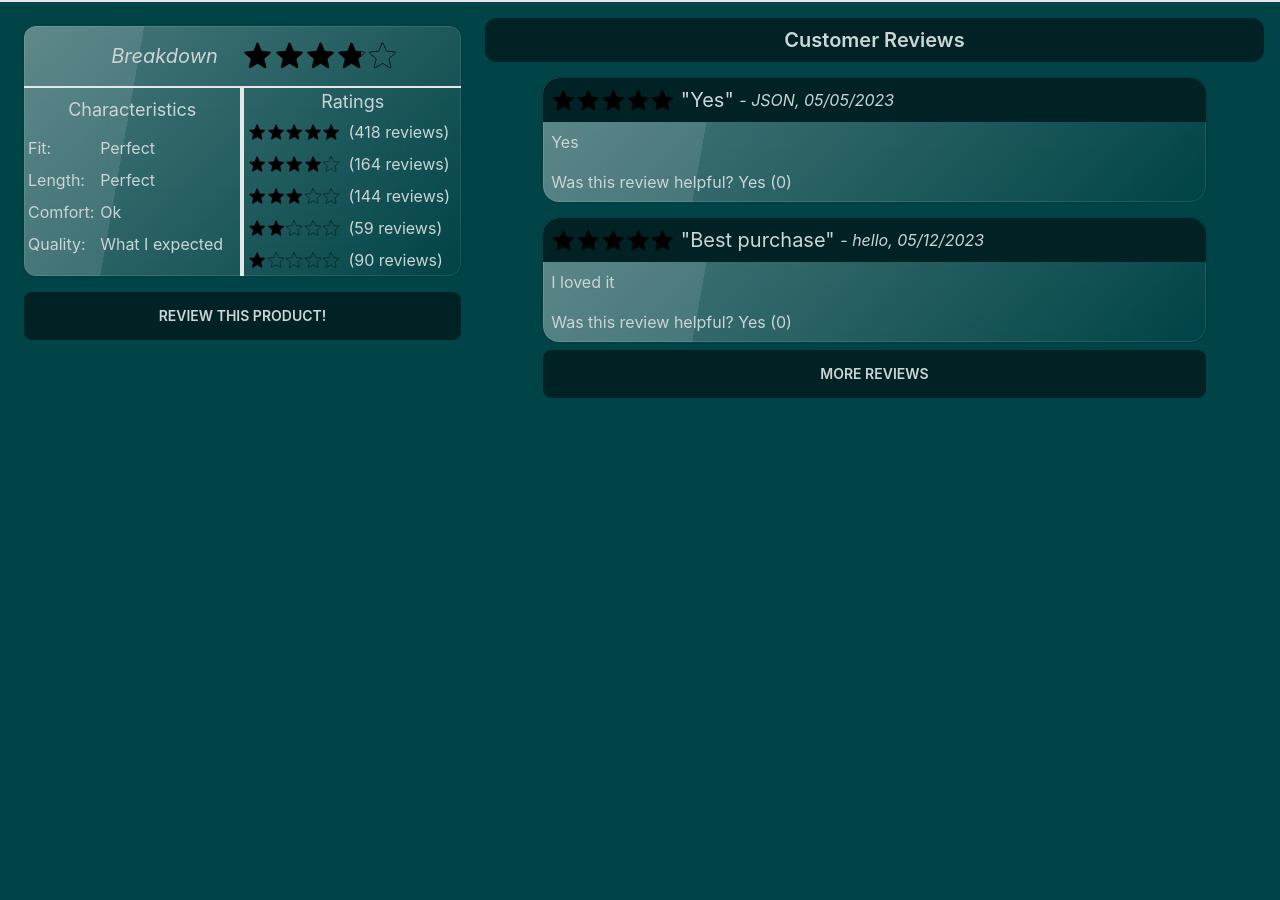
Test: Ratings and Reviews › ReviewsList › Should display two more reviews when button is clicked
Expected: the number of elements with test id "review" is 2, [543,78,1206,202]; [543,218,1206,342]
Click the button "More Reviews".
click(874, 374)  # box [543,350,1206,398]
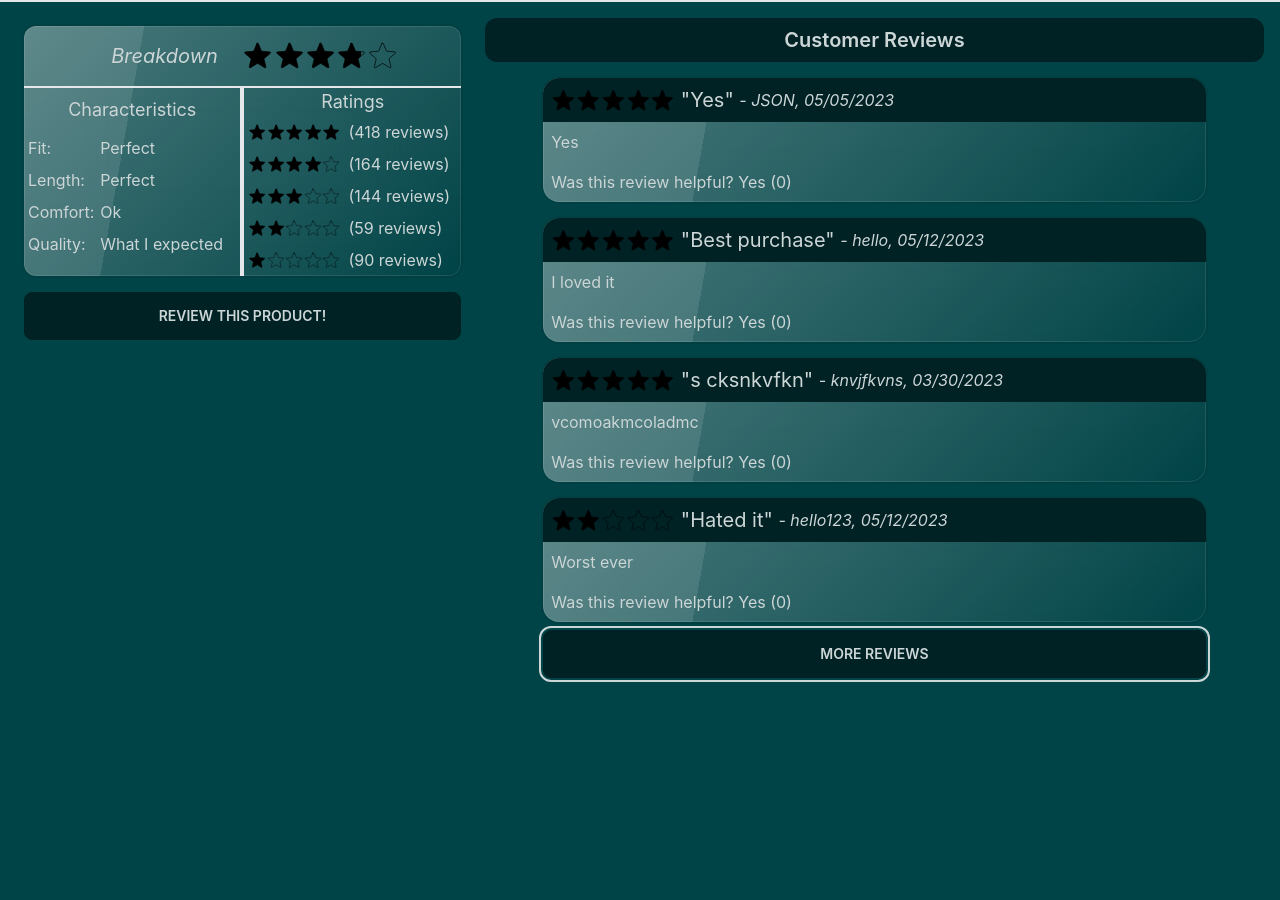
Now the number of elements with test id "review" is 4, box [543,78,1206,202]; [543,218,1206,342]; [543,358,1206,482]; [543,498,1206,622]
